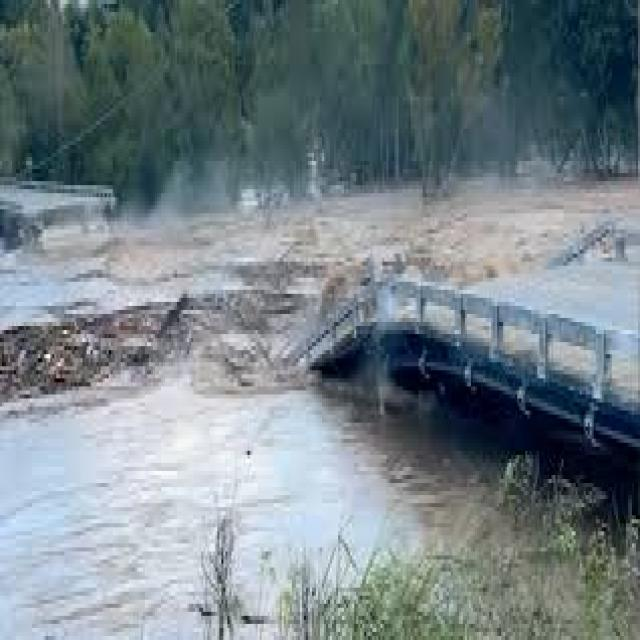bridge collapse: (8, 83, 554, 573)
